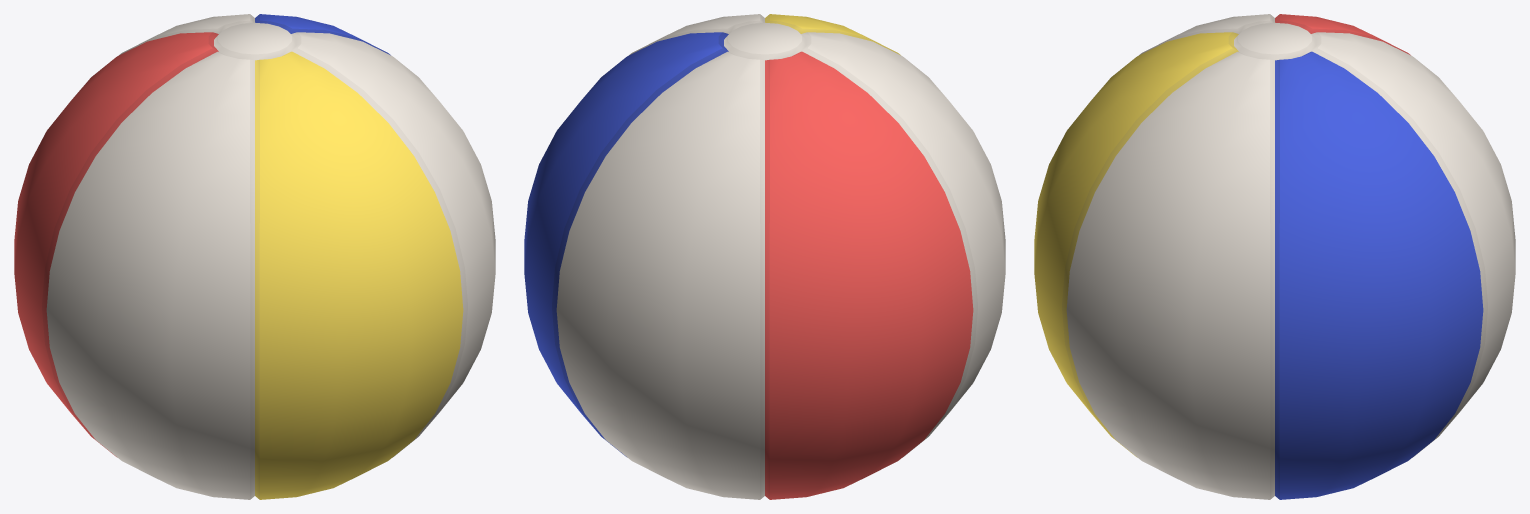
File: BeachBallFinal.fbx
3 views of the same model, side by side, from view 1: azimuth 30°, elevation 25°; view 2: azimuth 150°, elevation 25°; view 3: azimuth 270°, elevation 25° (orthographic).
Visible parts, largest first — view 1: BeachBall; view 2: BeachBall; view 3: BeachBall.
Part boxes in pixels (box(x1,y1,x2,y2)): BeachBall: box(14, 14, 495, 499); BeachBall: box(524, 14, 1005, 499); BeachBall: box(1034, 14, 1515, 499).
Bounding box in the file's own units: 1.99 × 2 × 1.97.
Materials: 1 (1 with a texture image).
